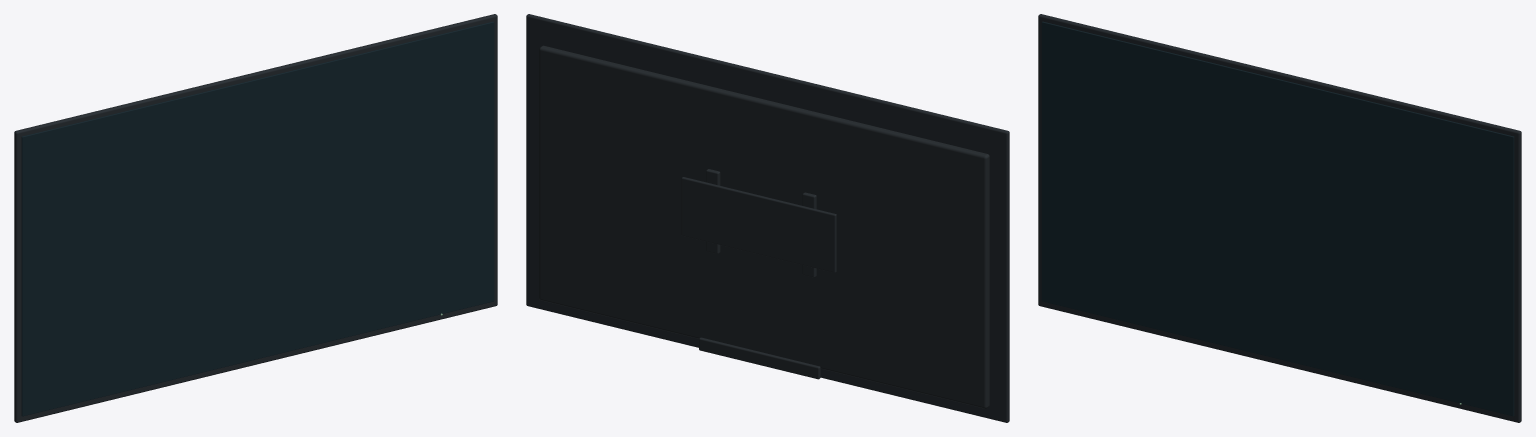
The model's file is television-1.glb.
3 views of the same model, side by side, from view 1: azimuth 30°, elevation 25°; view 2: azimuth 150°, elevation 25°; view 3: azimuth 330°, elevation 25° (orthographic).
Parts seen in each view (by area): view 1: television:1:archviz; view 2: television:1:archviz; view 3: television:1:archviz.
Part boxes in pixels (x1,y1,x2,y2): television:1:archviz: (14, 14, 497, 422); television:1:archviz: (526, 14, 1009, 422); television:1:archviz: (1038, 14, 1521, 422).
Bounding box in the file's own units: 1.23 × 0.71 × 0.0549.
